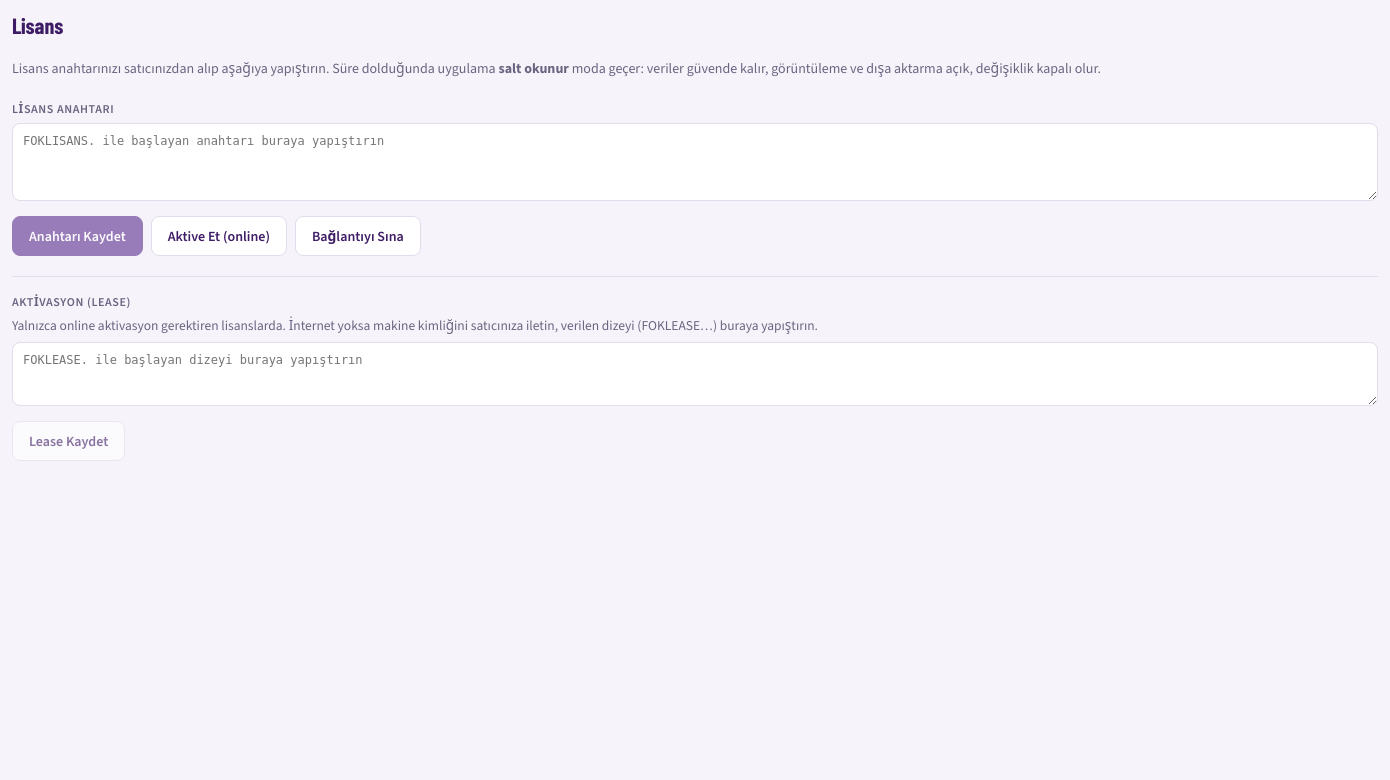
Test: Ayarlar > Lisans — anahtar kaydı › aktivasyon yapılamazsa anahtar kayıtlı kalır, uyarı toast'ı ne yapılacağını söyler, durum salt okunur + yönlendirme
Type " FOKLISANS.a.b " into the text box named "Lisans anahtarı" at (695, 162), box [12,123,1378,201]
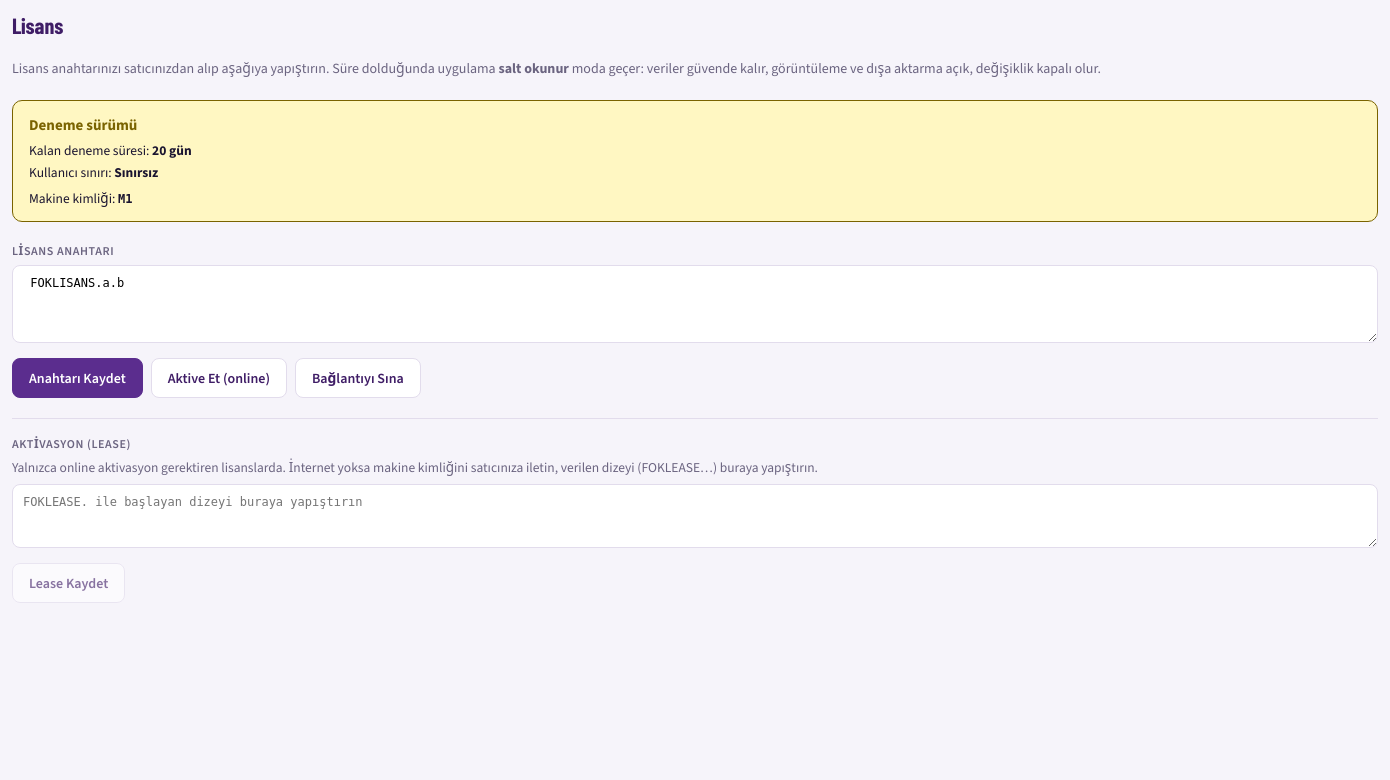
Click the button "Anahtarı Kaydet" at (77, 378), box [12,358,143,398]
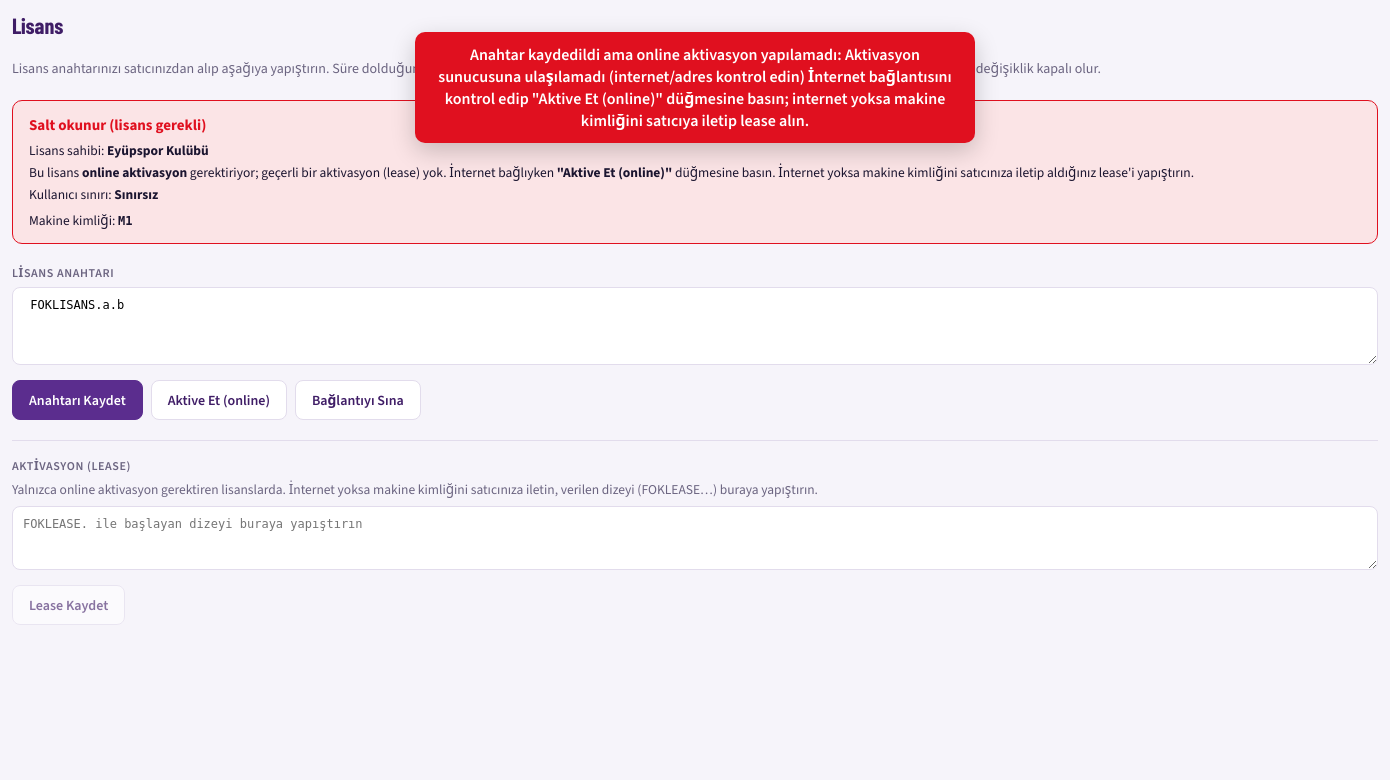
Check: the text "online aktivasyon yapılamadı" is shown, box [438,44,952,131]
Check: the text "Salt okunur (lisans gerekli)" is shown, box [29,115,206,135]
